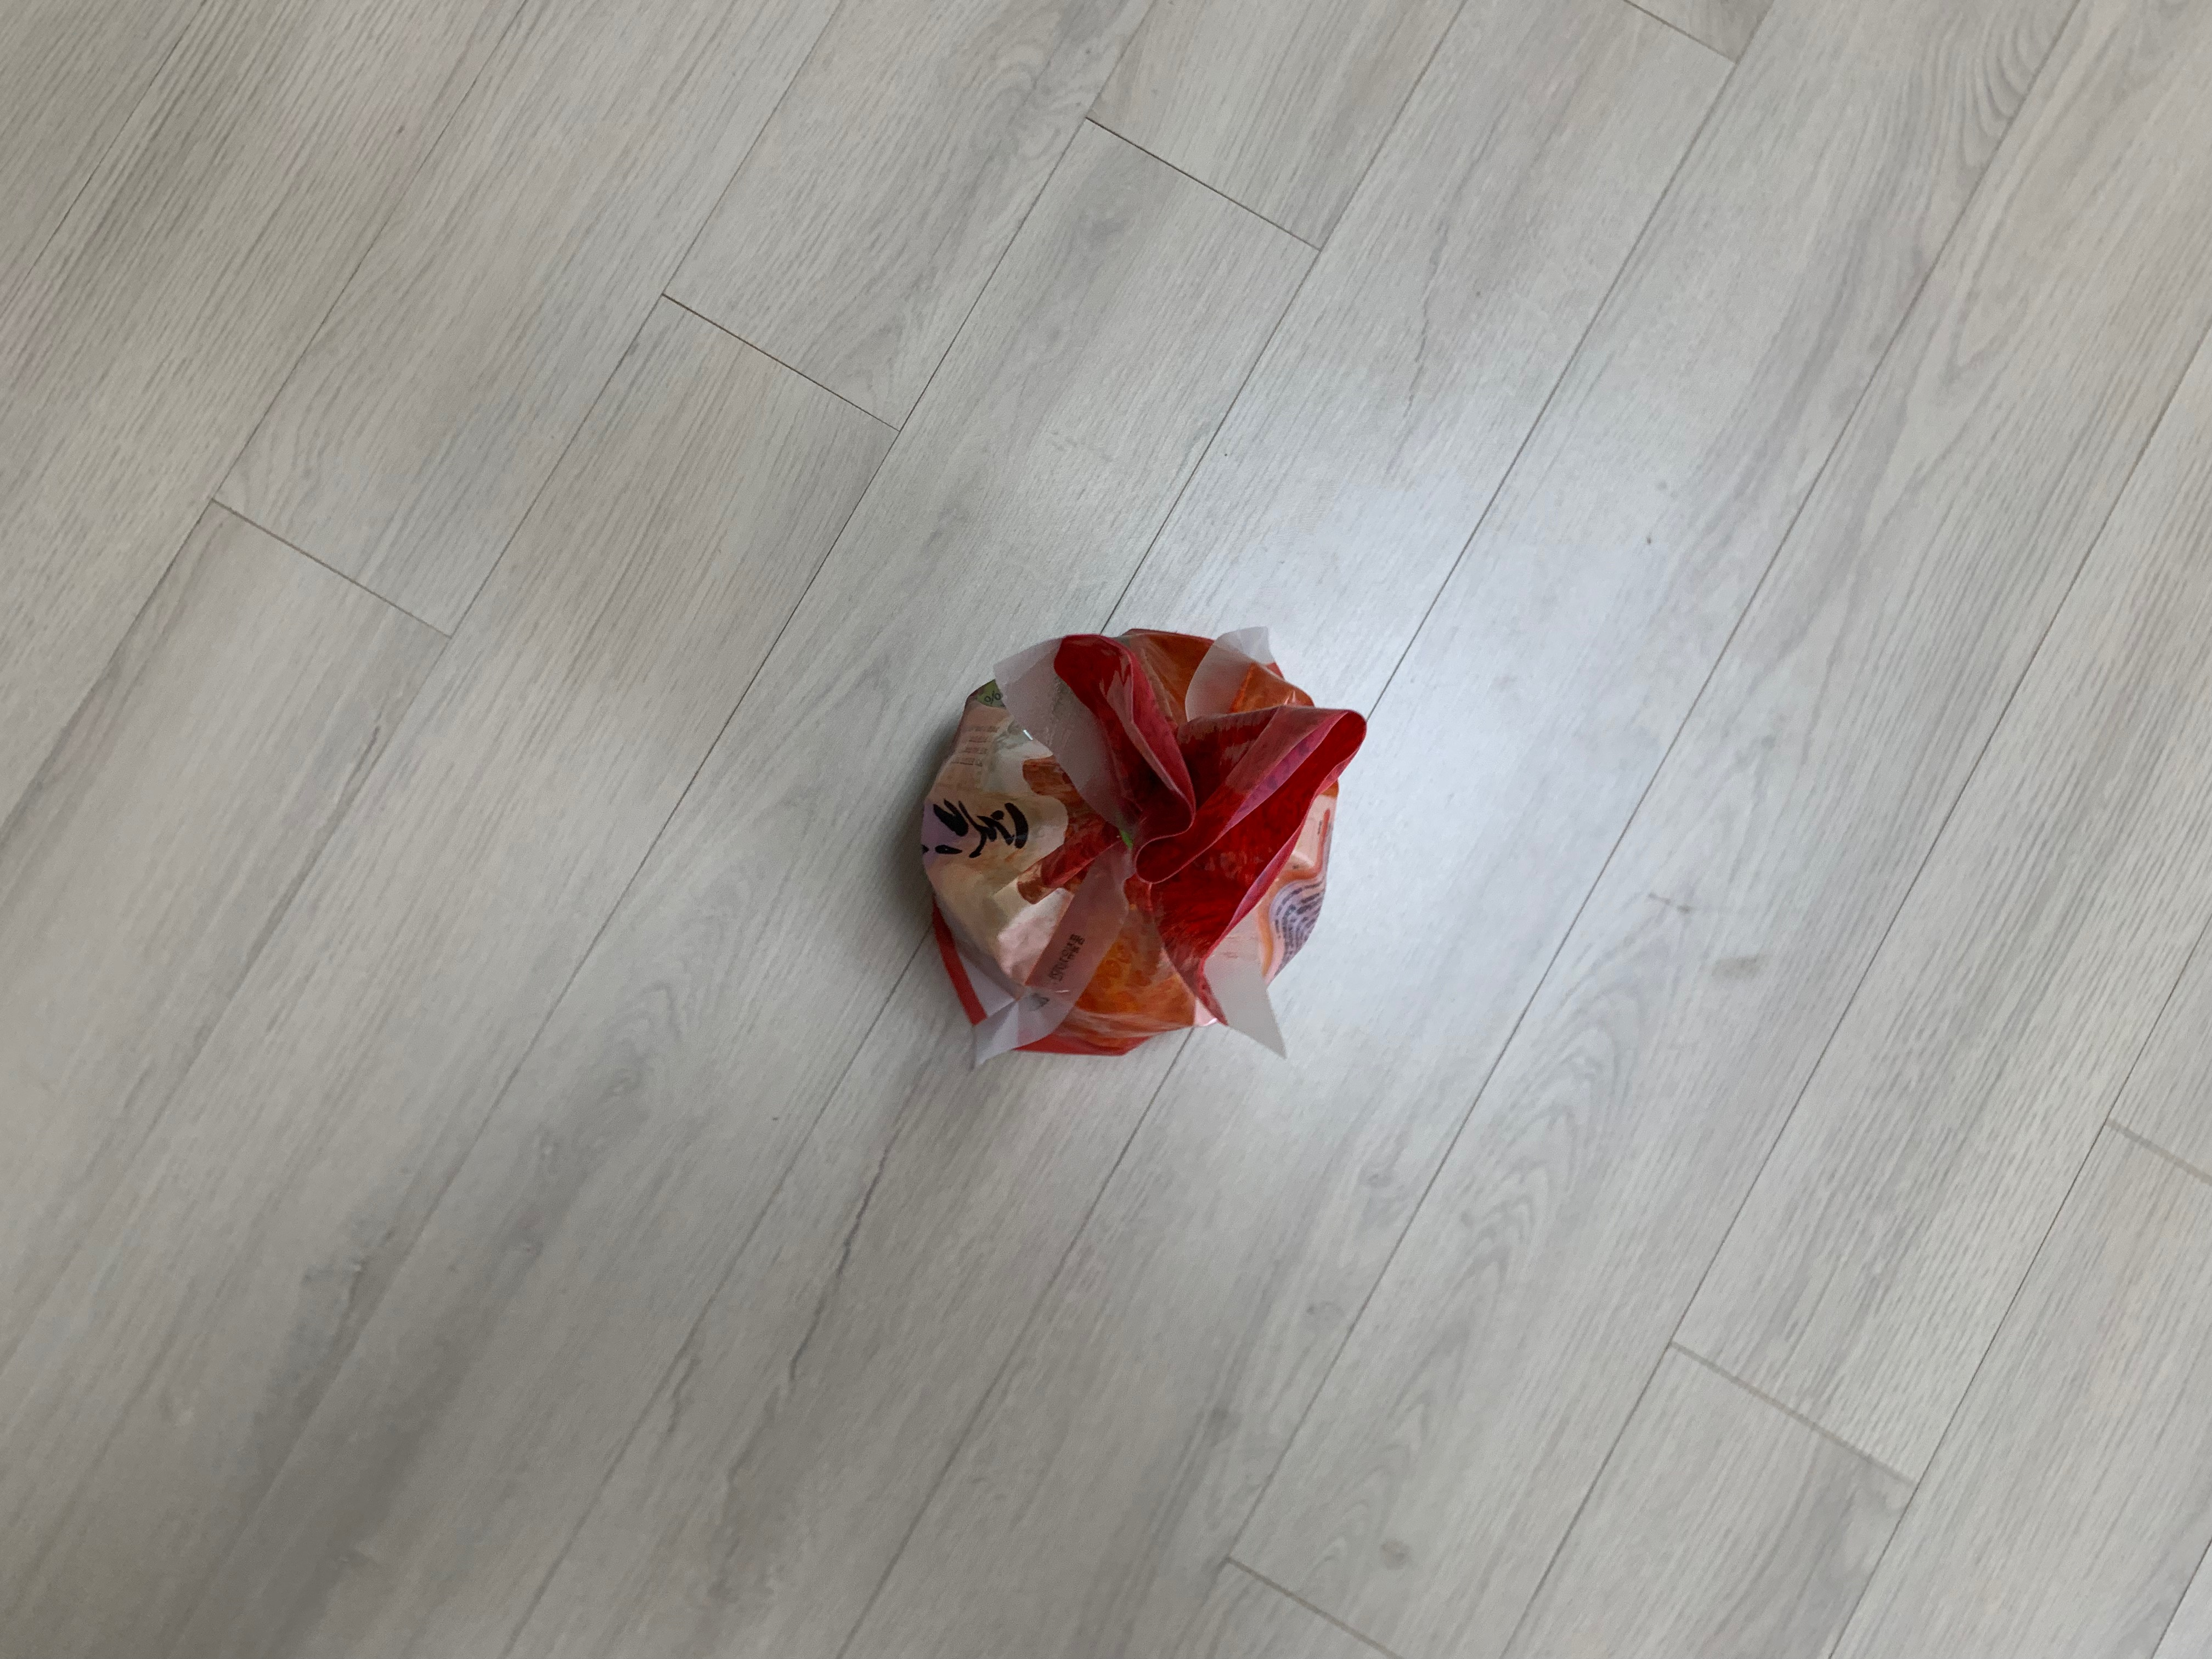kimchi: (921, 627, 1367, 1053)
